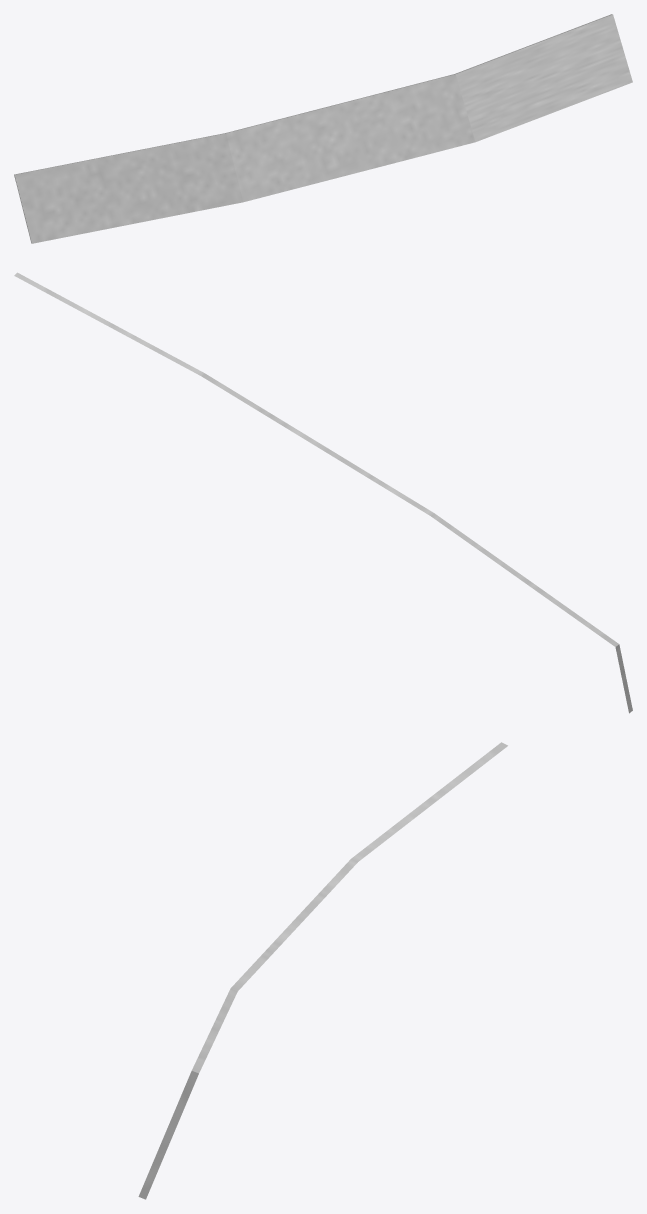
Rendered from Decor_Pocket_Right_V1.glb.
3 views of the same model, one above another, from view 1: azimuth 30°, elevation 25°; view 2: azimuth 150°, elevation 25°; view 3: azimuth 270°, elevation 25° (orthographic). The views are drawn at different scales.
Parts seen in each view (by area): view 1: Decor_Pocket_Right_V11; view 2: Decor_Pocket_Right_V11; view 3: Decor_Pocket_Right_V11.
Part boxes in pixels (x1=…): Decor_Pocket_Right_V11: x1=14, y1=14, x2=632, y2=243; Decor_Pocket_Right_V11: x1=14, y1=272, x2=632, y2=713; Decor_Pocket_Right_V11: x1=138, y1=742, x2=507, y2=1199.
Bounding box in the file's own units: 0.0434 × 0.0119 × 0.0132.
Materials: 1 (1 with a texture image).
